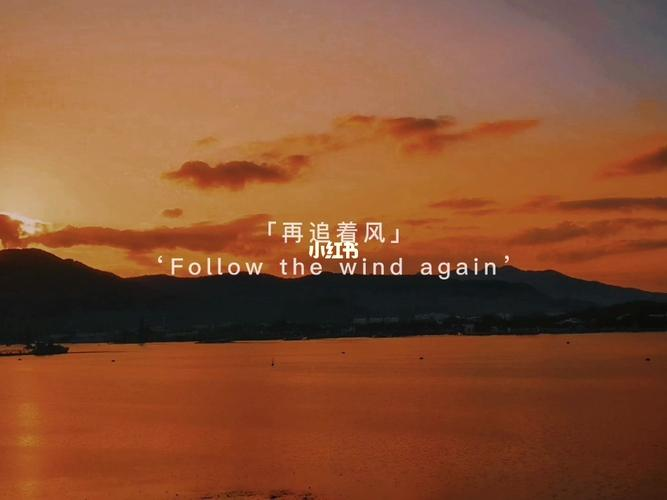mountain: (7, 241, 657, 348)
sea_river: (19, 352, 637, 488)
sky_cloud: (23, 80, 648, 253)
